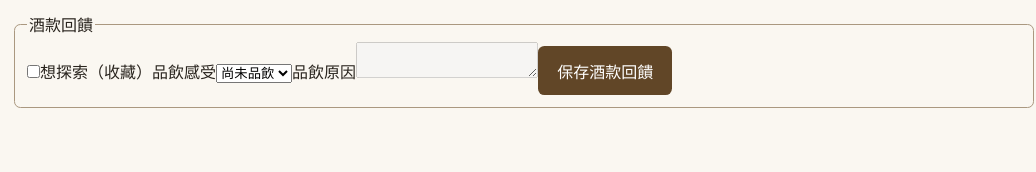
Test: a favorite stays independent of tasting and is successful only after the API receipt
Click the checkbox labelled "想探索（收藏）". click: click(34, 71)
box: [27, 65, 40, 78]
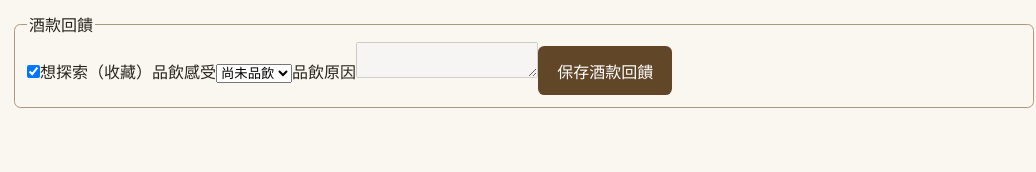
Click the button "保存酒款回饋". click: click(605, 71)
box: [538, 46, 672, 95]
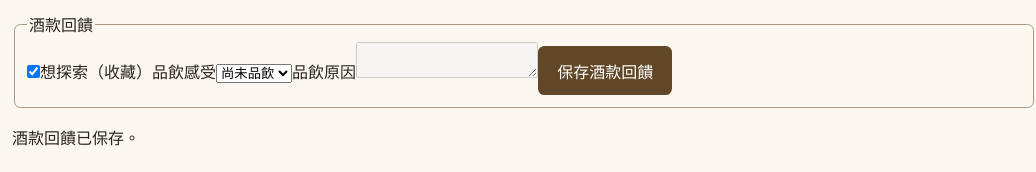
Now the text "酒款回饋已保存。" is shown, box [12, 127, 140, 149]
